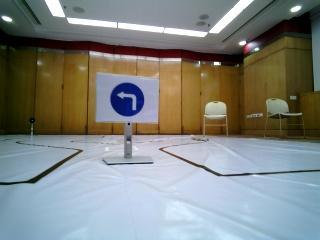left: (101, 70, 161, 127)
